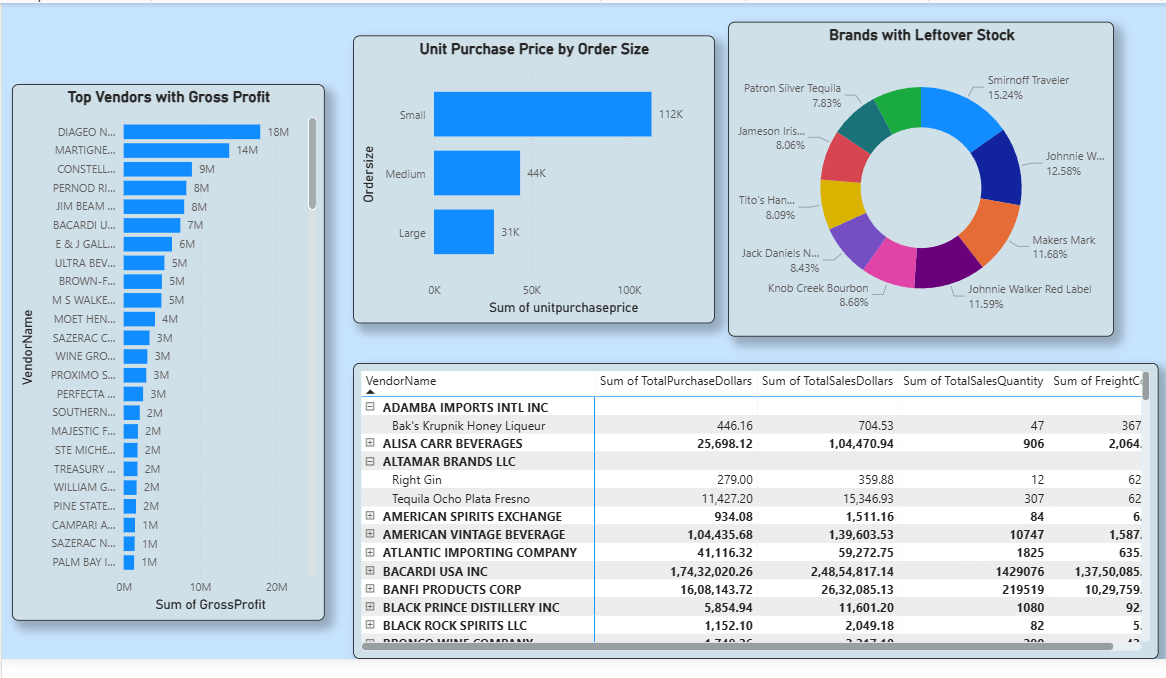

The dashboard page shown, as its layout file describes it:
{"tool":"powerbi","page":{"name":"Page 2","canvas":[1280,720],"ordinal":1},"visuals":[{"type":"barChart","title":"Top Vendors with Gross Profit","fields":{"Category":["vendor_sales_summary.VendorName"],"Y":["Sum(vendor_sales_summary.GrossProfit)"]},"box":[11,89.2,343.1,588.7],"z":0},{"type":"donutChart","title":"Brands with Leftover Stock","fields":{"Category":["vendor_sales_summary.Description"],"Y":["Sum(vendor_sales_summary.unsoldinventoryvalue)"]},"box":[797.8,20.7,423.6,345.6],"z":1000},{"type":"barChart","title":"Unit Purchase Price by Order Size","fields":{"Category":["vendor_sales_summary.Ordersize"],"Y":["Sum(vendor_sales_summary.unitpurchaseprice)"]},"box":[385.6,35.7,396.6,315.6],"z":2000},{"type":"pivotTable","fields":{"Rows":["vendor_sales_summary.VendorName","vendor_sales_summary.Description"],"Values":["Sum(vendor_sales_summary.TotalPurchaseDollars)","Sum(vendor_sales_summary.TotalSalesDollars)","Sum(vendor_sales_summary.TotalSalesQuantity)","Sum(vendor_sales_summary.FreightCost)"]},"box":[385.4,394.9,883.8,324.9],"z":3000}]}

Visuals, with their boxes in screenshot pixels (x1, y1, x2, y2):
"Top Vendors with Gross Profit" barChart: [x1=13, y1=86, x2=321, y2=615]
"Brands with Leftover Stock" donutChart: [x1=720, y1=25, x2=1100, y2=335]
"Unit Purchase Price by Order Size" barChart: [x1=349, y1=38, x2=706, y2=322]
pivotTable - vendor_sales_summary.VendorName x vendor_sales_summary.Description: [x1=349, y1=361, x2=1143, y2=653]
